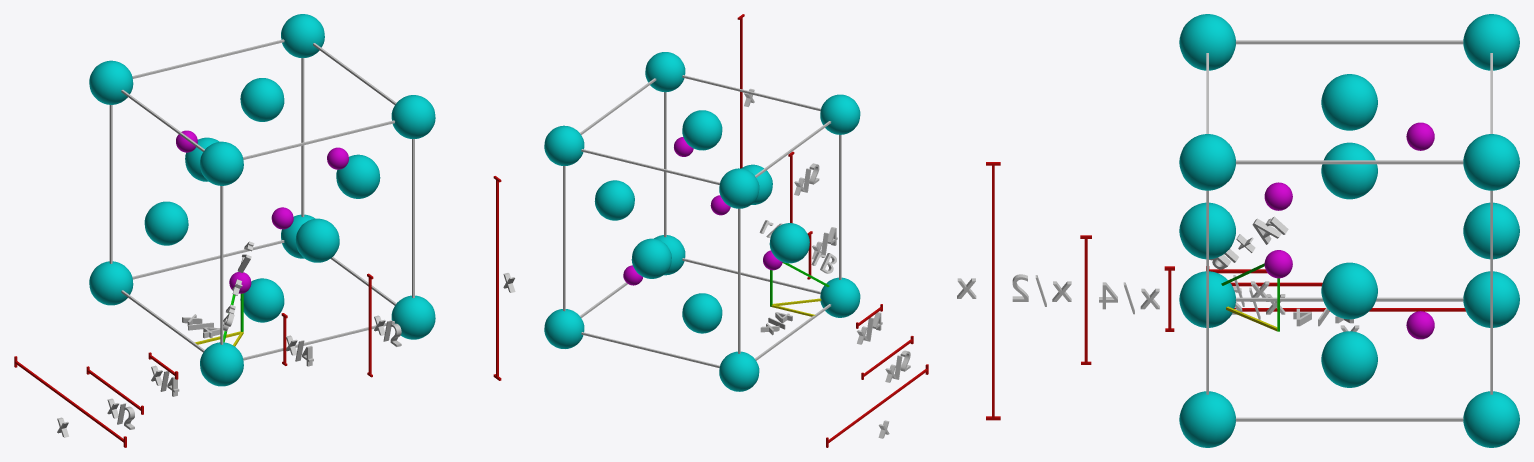
Rendered from blendavolume_centrado.glb.
The picture shows the model from 3 angles, left to right: view 1: azimuth 30°, elevation 25°; view 2: azimuth 150°, elevation 25°; view 3: azimuth 270°, elevation 25°; orthographic projection. The views are drawn at different scales.
Parts seen in each view (by area): view 1: arista13; view 2: arista13; view 3: arista13.
Boxes of the visible parts, x1,y1,x2,y2 form: arista13: (14, 14, 515, 447); arista13: (544, 14, 928, 447); arista13: (957, 14, 1519, 447).
Size of the model in its own units: 1.65 by 1.53 by 1.98.
